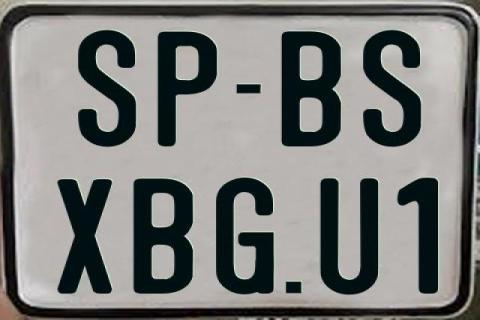0: (398, 175, 442, 295)
B: (279, 31, 345, 148), (130, 178, 191, 294)
G: (214, 176, 276, 294)
P: (158, 29, 219, 150)
S: (363, 29, 426, 151), (75, 28, 137, 146)
U: (318, 178, 381, 294)
X: (56, 177, 114, 291)
